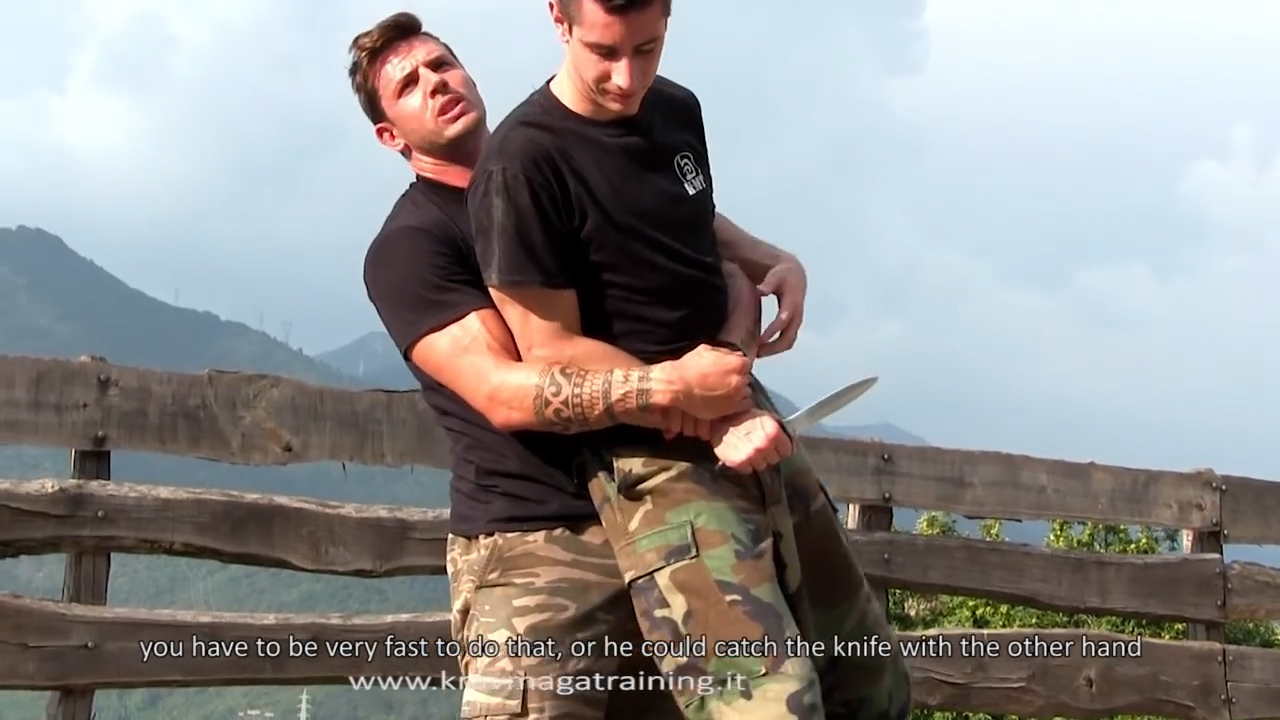knife: (710, 368, 885, 483)
